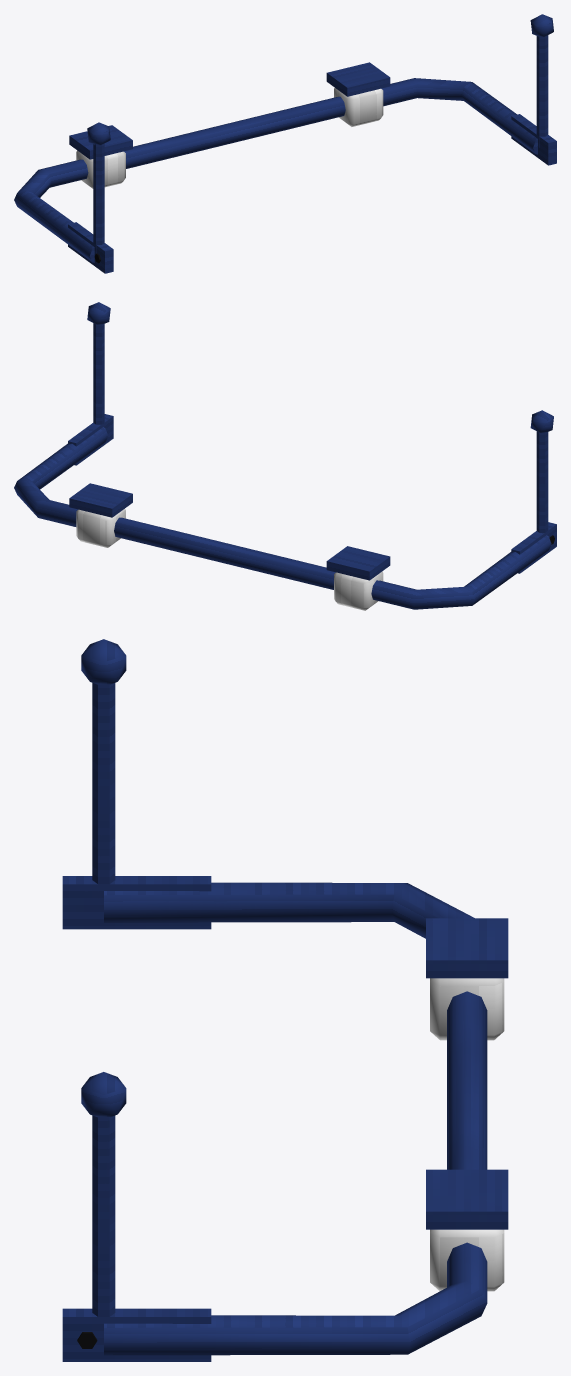
Rendered from barras_n2.glb.
3 renders of one model, top to bottom at view 1: azimuth 30°, elevation 25°; view 2: azimuth 150°, elevation 25°; view 3: azimuth 270°, elevation 25°, orthographic. The views are drawn at different scales.
Parts seen in each view (by area): view 1: barras_n2; view 2: barras_n2; view 3: barras_n2.
Boxes of the visible parts, x1,y1,x2,y2 form: barras_n2: (14, 14, 556, 273); barras_n2: (14, 302, 556, 610); barras_n2: (62, 639, 508, 1361).
Size of the model in its own units: 0.6486 by 0.1985 by 0.27.
2 materials, 2 textured.
